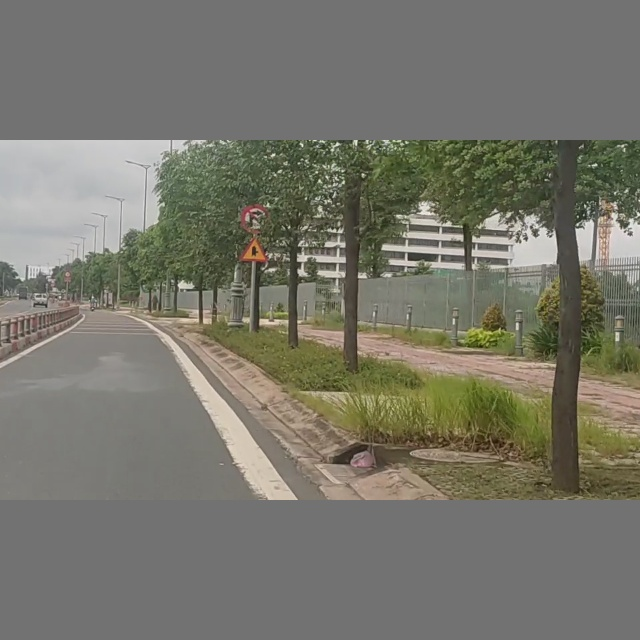W.207: (239, 237, 269, 261)
